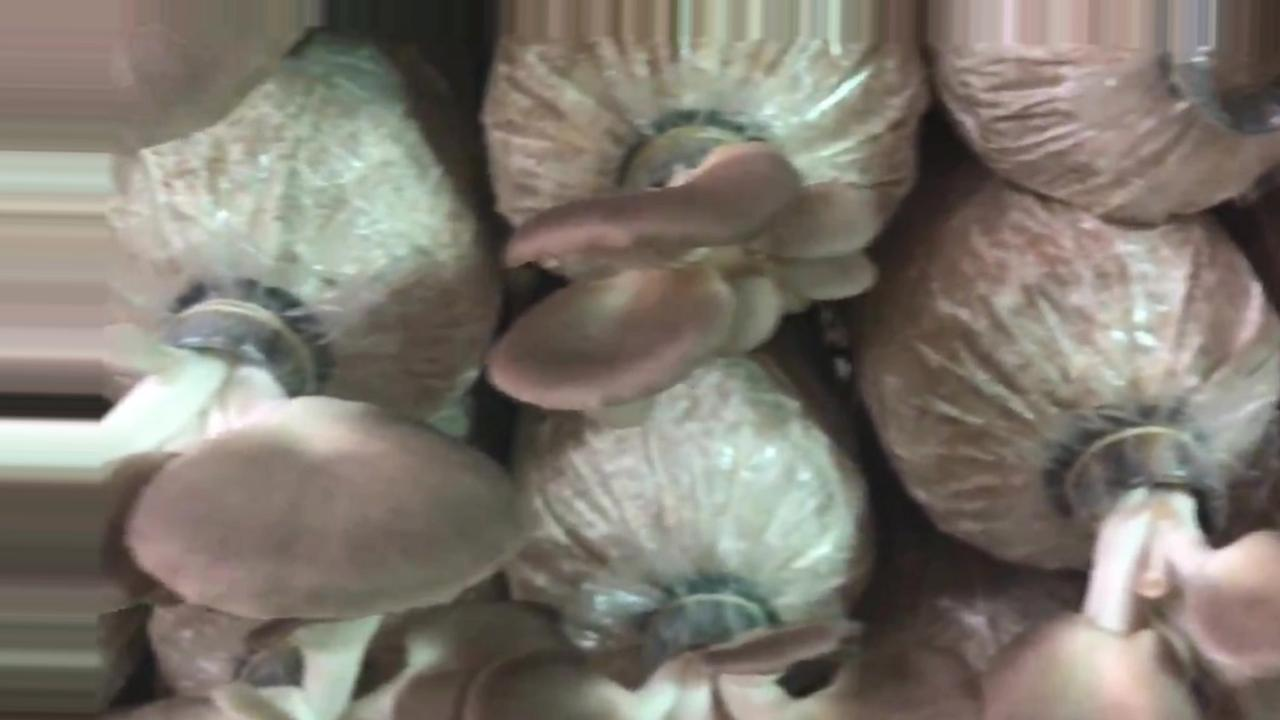nam: (1, 271, 535, 624), (486, 117, 892, 414), (981, 418, 1277, 720), (470, 582, 986, 718)
